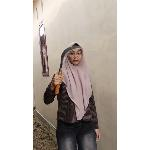Celurit: (52, 42, 90, 90)
